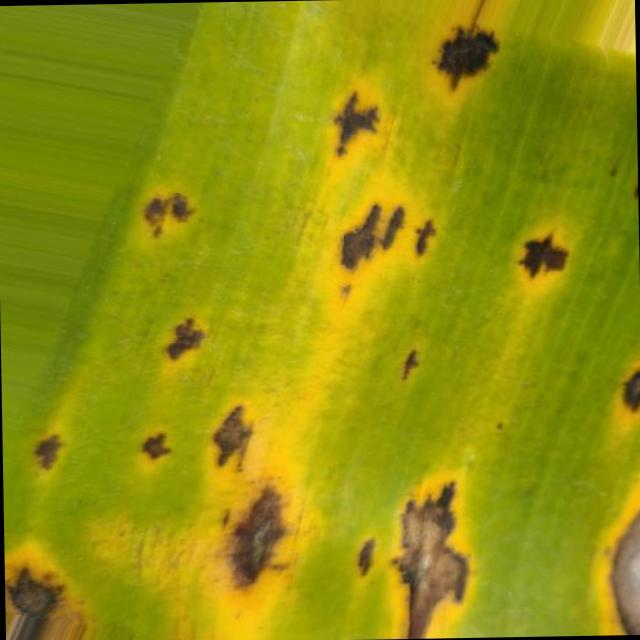Banana_Yellow_Sigatoka: (2, 409, 640, 640), (318, 11, 594, 304)
